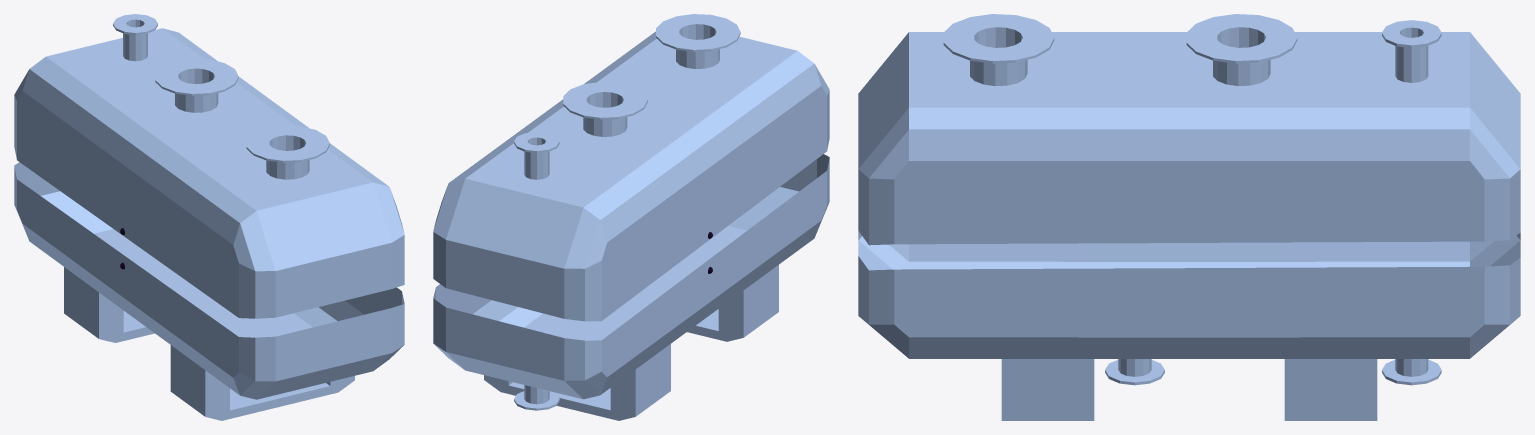
Rendered from pressure vessel.fbx.
3 views of the same model, side by side, from view 1: azimuth 30°, elevation 25°; view 2: azimuth 150°, elevation 25°; view 3: azimuth 270°, elevation 25° (orthographic). The views are drawn at different scales.
Visible parts, largest first — view 1: ülemine osa, 2alumine osa, Cylinder.007, Cylinder.008, Cylinder.009; view 2: ülemine osa, 2alumine osa, Cylinder.008, Cylinder.007, Cylinder.009, Cylinder.006; view 3: ülemine osa, 2alumine osa, Cylinder.007, Cylinder.008, Cylinder.009, Cylinder.005, Cylinder.006.
Part boxes in pixels (bbox=[...]): ülemine osa: bbox=[14, 28, 404, 318]; 2alumine osa: bbox=[14, 162, 404, 420]; Cylinder.007: bbox=[246, 125, 329, 179]; Cylinder.008: bbox=[155, 58, 238, 112]; Cylinder.009: bbox=[113, 14, 157, 61]; ülemine osa: bbox=[433, 31, 829, 321]; 2alumine osa: bbox=[433, 154, 829, 420]; Cylinder.008: bbox=[563, 82, 647, 136]; Cylinder.007: bbox=[656, 14, 740, 68]; Cylinder.009: bbox=[514, 132, 559, 179]; Cylinder.006: bbox=[514, 385, 559, 410]; ülemine osa: bbox=[858, 32, 1520, 245]; 2alumine osa: bbox=[858, 231, 1520, 420]; Cylinder.007: bbox=[943, 14, 1054, 85]; Cylinder.008: bbox=[1186, 14, 1297, 85]; Cylinder.009: bbox=[1382, 20, 1441, 82]; Cylinder.005: bbox=[1105, 359, 1164, 385]; Cylinder.006: bbox=[1382, 359, 1441, 385].
Size of the model in its own units: 321 by 495 by 834.
